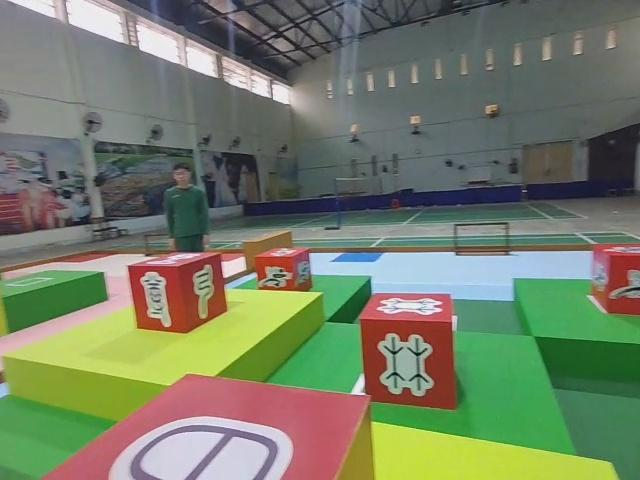R1: (590, 238, 640, 316), (252, 245, 314, 296)
R2 Fake: (33, 370, 377, 480), (126, 248, 229, 334)
R2 Real: (355, 289, 460, 412)
